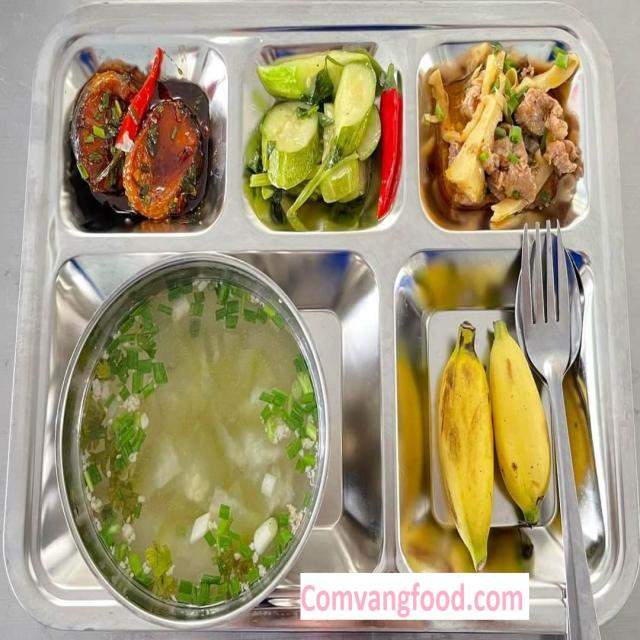bo xao: (481, 87, 567, 221)
ca kho: (123, 82, 209, 220), (71, 65, 142, 193)
canh bau: (56, 256, 325, 624)
chuoi: (437, 322, 494, 571), (489, 321, 551, 523)
dua leo: (250, 48, 380, 221)
ot: (116, 48, 163, 151), (377, 88, 402, 219)
